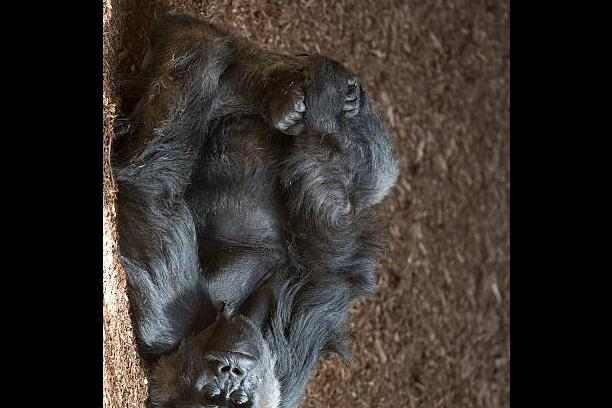goriile_montagne: (122, 32, 414, 408)
